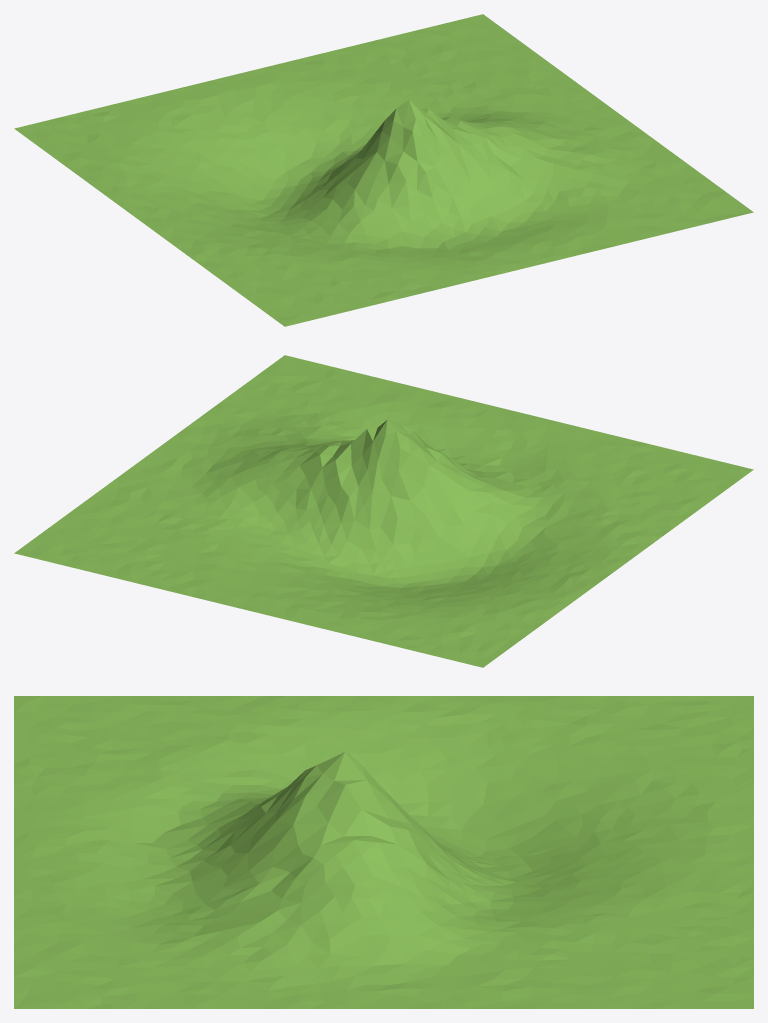
Rendered from MT_Terrain_L_b_19.fbx.
3 views of the same model, one above another, from view 1: azimuth 30°, elevation 25°; view 2: azimuth 150°, elevation 25°; view 3: azimuth 270°, elevation 25° (orthographic). The views are drawn at different scales.
Visible parts, largest first — view 1: MT_Terrain_L_b_19; view 2: MT_Terrain_L_b_19; view 3: MT_Terrain_L_b_19.
Part boxes in pixels (bbox=[...]): MT_Terrain_L_b_19: bbox=[14, 14, 753, 326]; MT_Terrain_L_b_19: bbox=[14, 355, 753, 667]; MT_Terrain_L_b_19: bbox=[14, 696, 753, 1008].
Size of the model in its own units: 10000 by 2208 by 10000.
